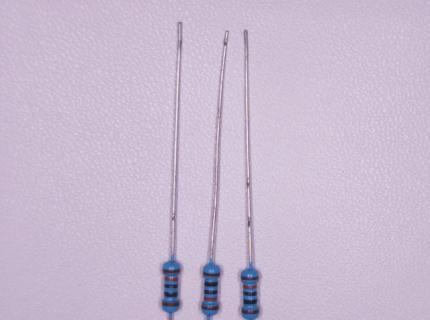Black band: (244, 299, 257, 305), (165, 292, 177, 297), (205, 282, 218, 286), (165, 284, 178, 288), (244, 292, 257, 296), (205, 290, 217, 294)
Brown band: (242, 309, 259, 315), (202, 305, 219, 311), (242, 276, 259, 281), (162, 302, 179, 307), (163, 269, 180, 273), (204, 273, 220, 277)
Orange band: (204, 297, 218, 301), (244, 285, 257, 289), (165, 277, 178, 281)
